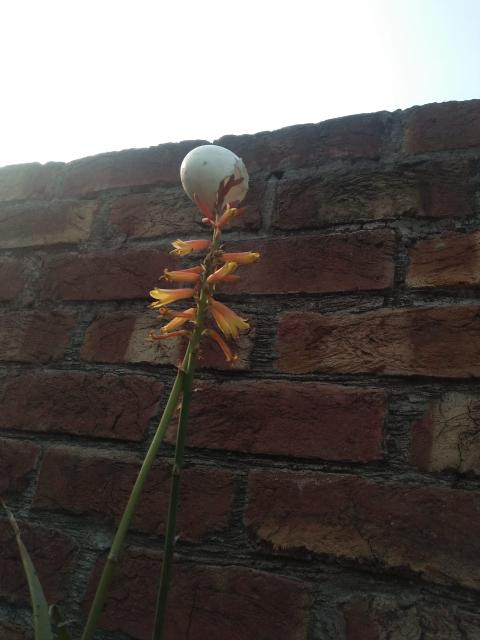Roto: (180, 143, 248, 209)
